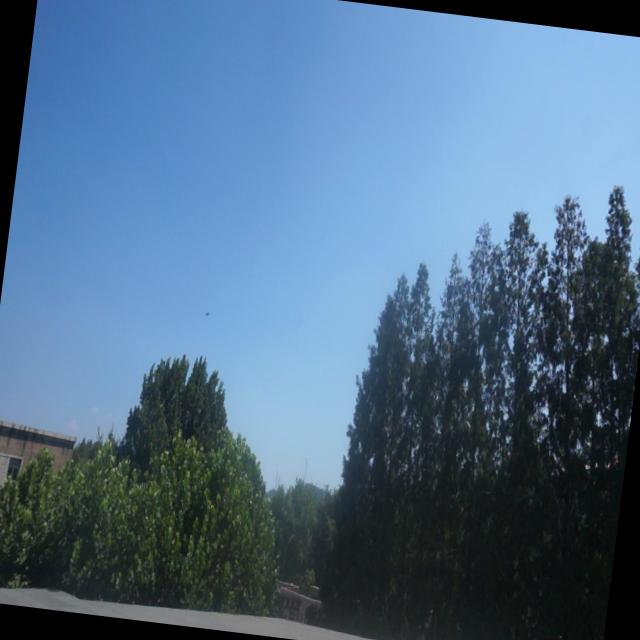drone: (201, 307, 211, 321)
